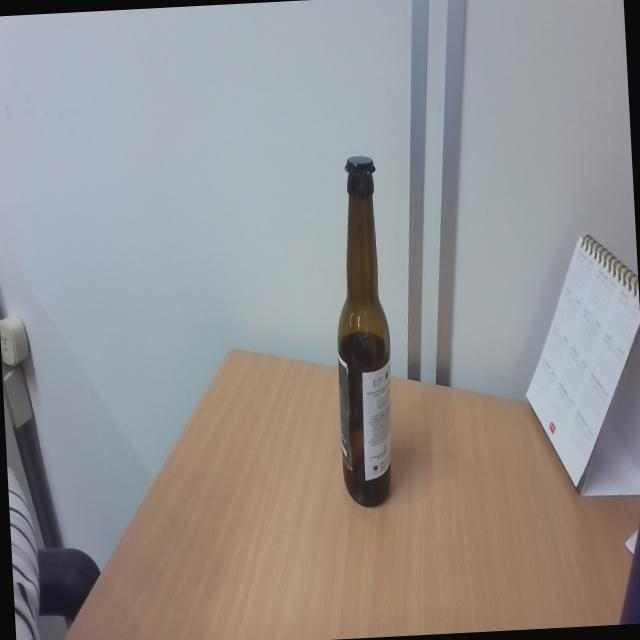Bottle: (324, 153, 398, 509)
Cap: (340, 155, 380, 180)
Label: (338, 355, 394, 479)
